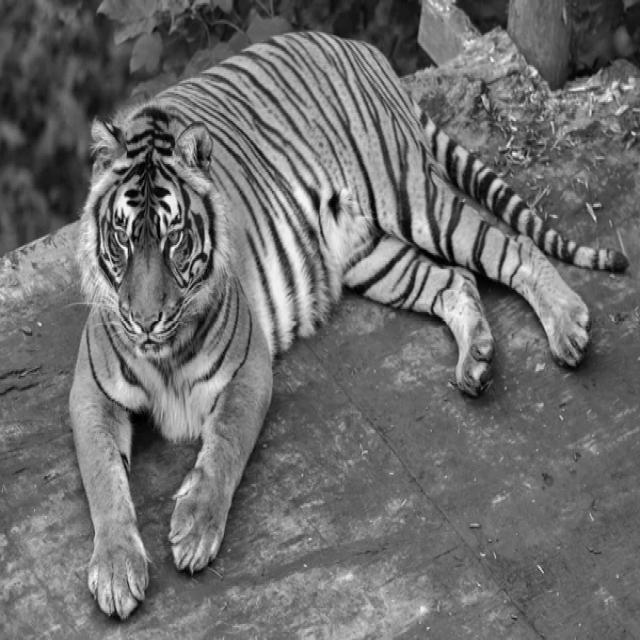Animal: (70, 32, 630, 618)
